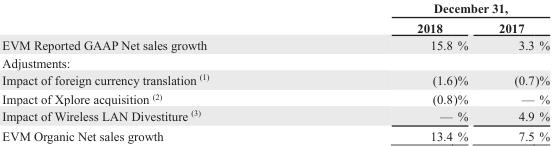table: (1, 1, 549, 142)
table column: (1, 1, 312, 142), (312, 1, 482, 142), (482, 1, 549, 142)
table column header: (1, 1, 549, 36)
table projected row header: (1, 54, 549, 71)
table row: (1, 17, 549, 36), (1, 106, 549, 125), (1, 36, 549, 54), (1, 88, 549, 106), (1, 54, 549, 71), (1, 71, 549, 88), (1, 125, 549, 142), (1, 1, 549, 17)
table spanning cell: (312, 1, 549, 17)
